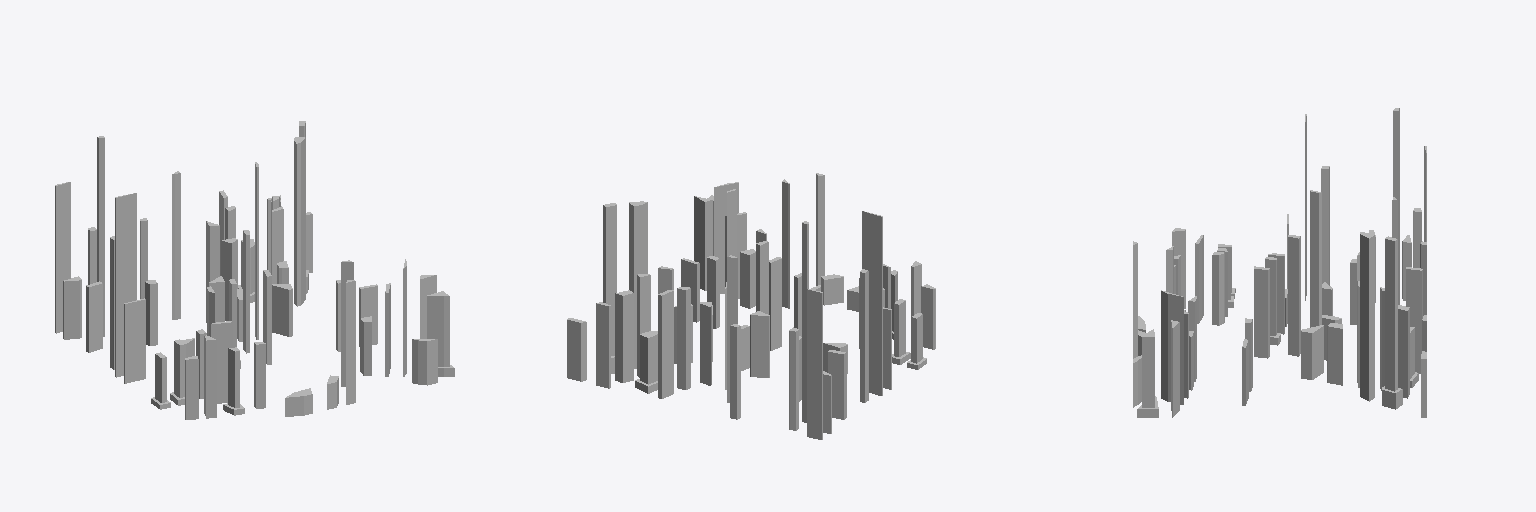
Rendered from buildings_00071.obj.
The picture shows the model from 3 angles: view 1: azimuth 30°, elevation 25°; view 2: azimuth 150°, elevation 25°; view 3: azimuth 270°, elevation 25°; orthographic projection.
Size of the model in its own units: 1460 by 1088 by 1460.